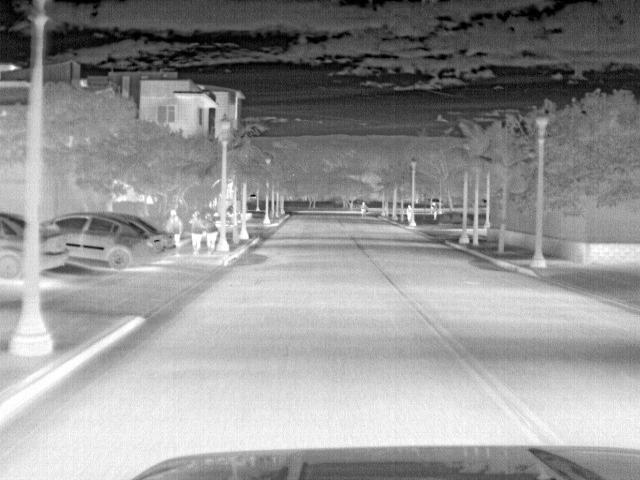car: (49, 214, 163, 283), (124, 218, 178, 262), (1, 212, 24, 289), (42, 222, 74, 274)
person: (164, 212, 182, 252), (204, 210, 221, 249), (189, 209, 204, 252), (358, 198, 370, 218), (405, 203, 414, 226)
